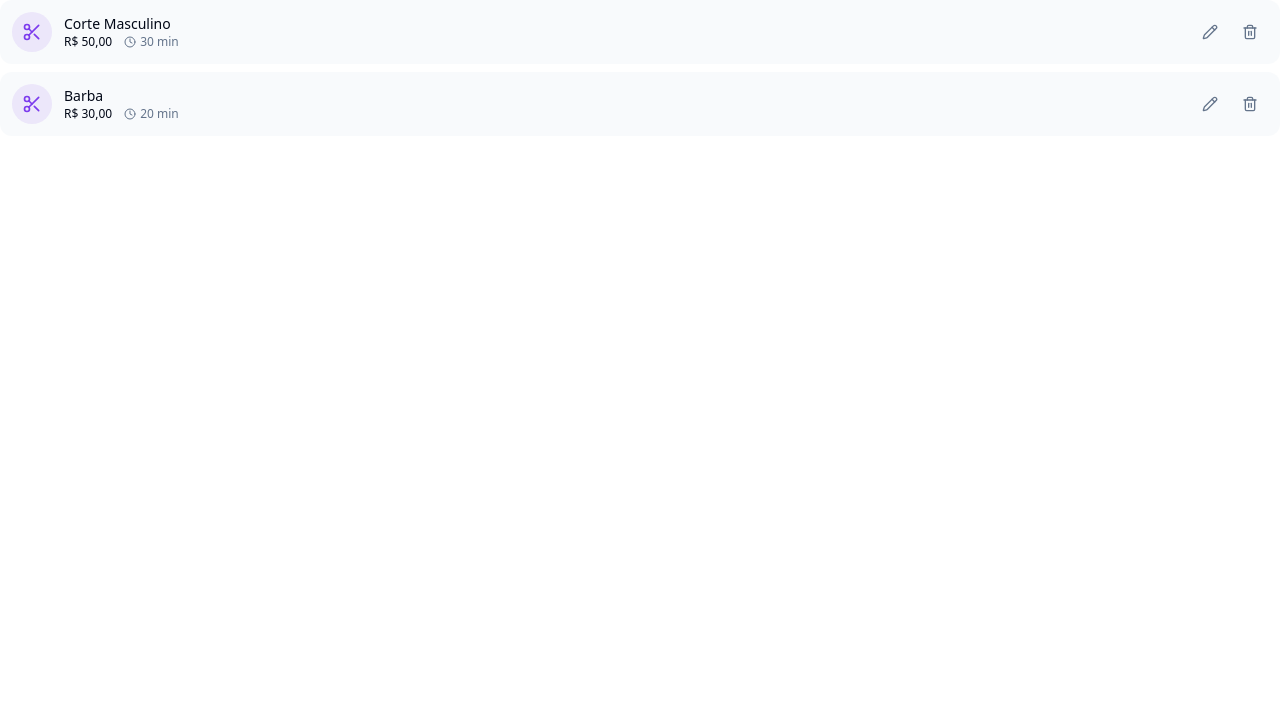
Scenario: ServiceList › with services › should open delete confirmation when delete button is clicked
Click the button named "delete" in the row of "Corte Masculino" at (1250, 32), box [1232,14,1268,50]
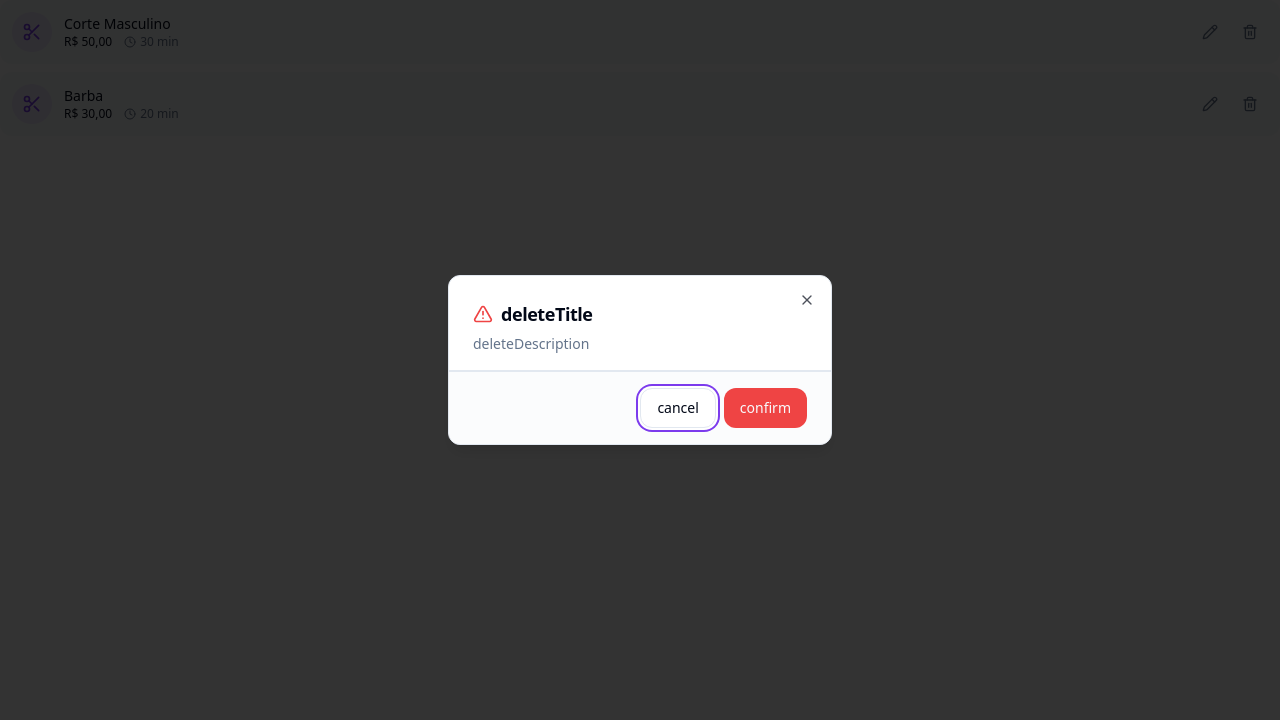
Now the heading "deleteTitle" is shown, box [473,302,592,326]
